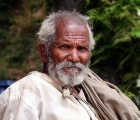male: (43, 15, 88, 85)
